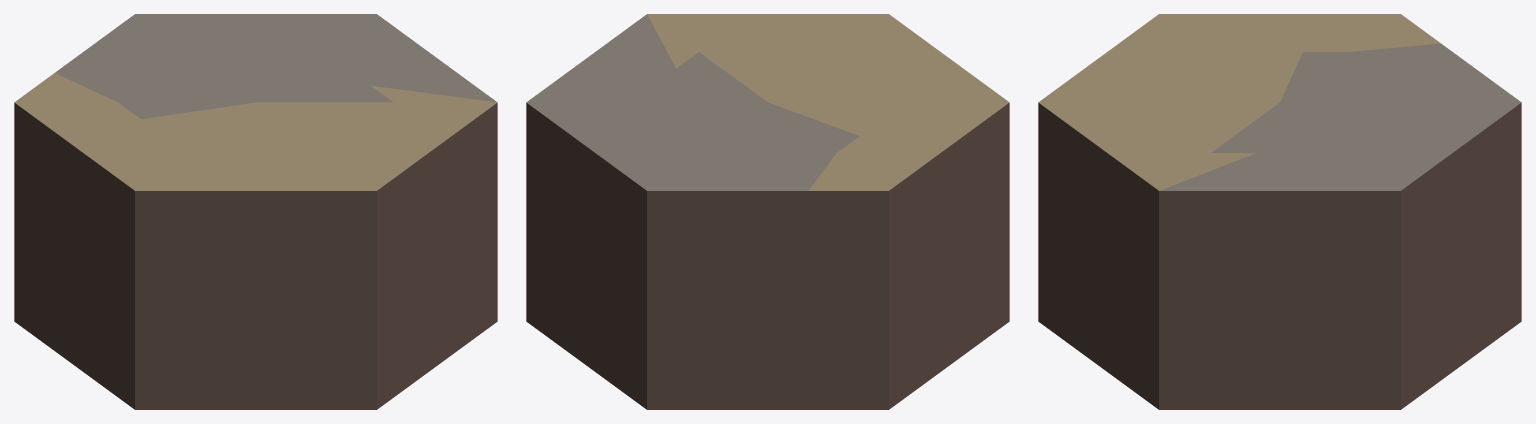
File: AE_Hex_Volcano_Tuff.fbx
3 views of the same model, side by side, from view 1: azimuth 30°, elevation 25°; view 2: azimuth 150°, elevation 25°; view 3: azimuth 270°, elevation 25° (orthographic).
Visible parts, largest first — view 1: AE_Hex_Volcano_Tuff; view 2: AE_Hex_Volcano_Tuff; view 3: AE_Hex_Volcano_Tuff.
Boxes of the visible parts, x1=… form: AE_Hex_Volcano_Tuff: x1=14, y1=14, x2=497, y2=409; AE_Hex_Volcano_Tuff: x1=526, y1=14, x2=1009, y2=409; AE_Hex_Volcano_Tuff: x1=1038, y1=14, x2=1521, y2=409.
Bounding box in the file's own units: 1.73 × 1 × 2.
